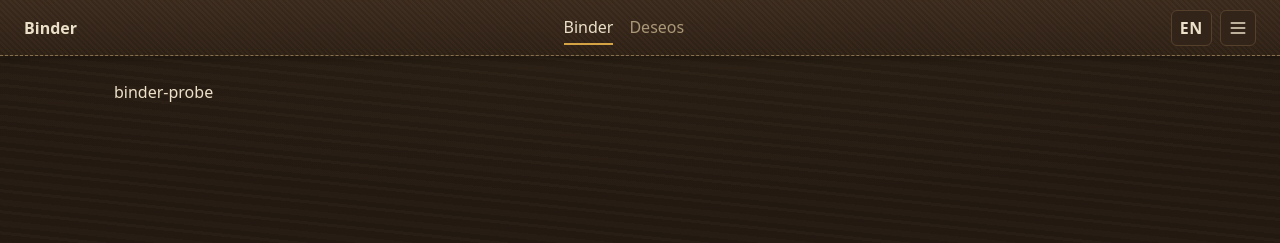
it: AppLayout user menu › sends "Mi cuenta" to the profile when there is a session
The width and height of the screenshot is (1280, 243).
Click the button named "Menú" at (1238, 28), box [1220,10,1256,46]
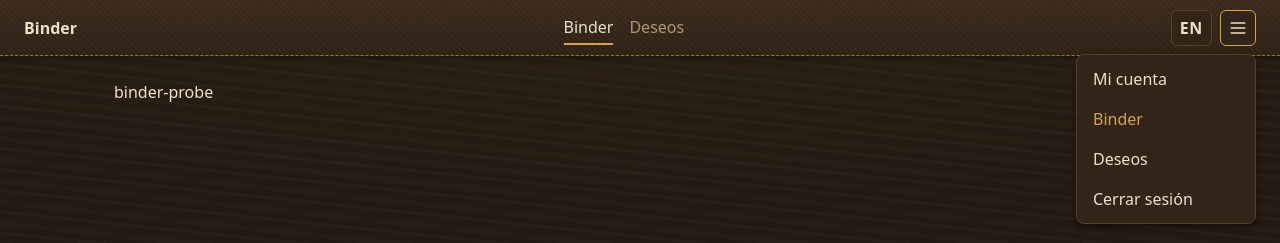
Click the menu item "Mi cuenta" at (1130, 78), box [1093,68,1167,90]
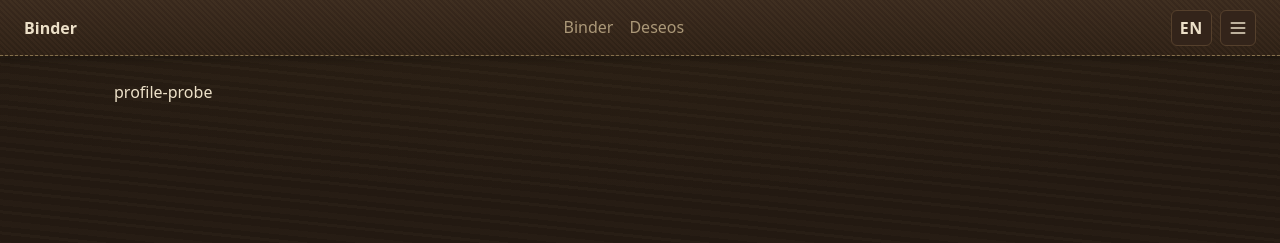
Check: the text "profile-probe" is shown, box [114,81,212,103]
